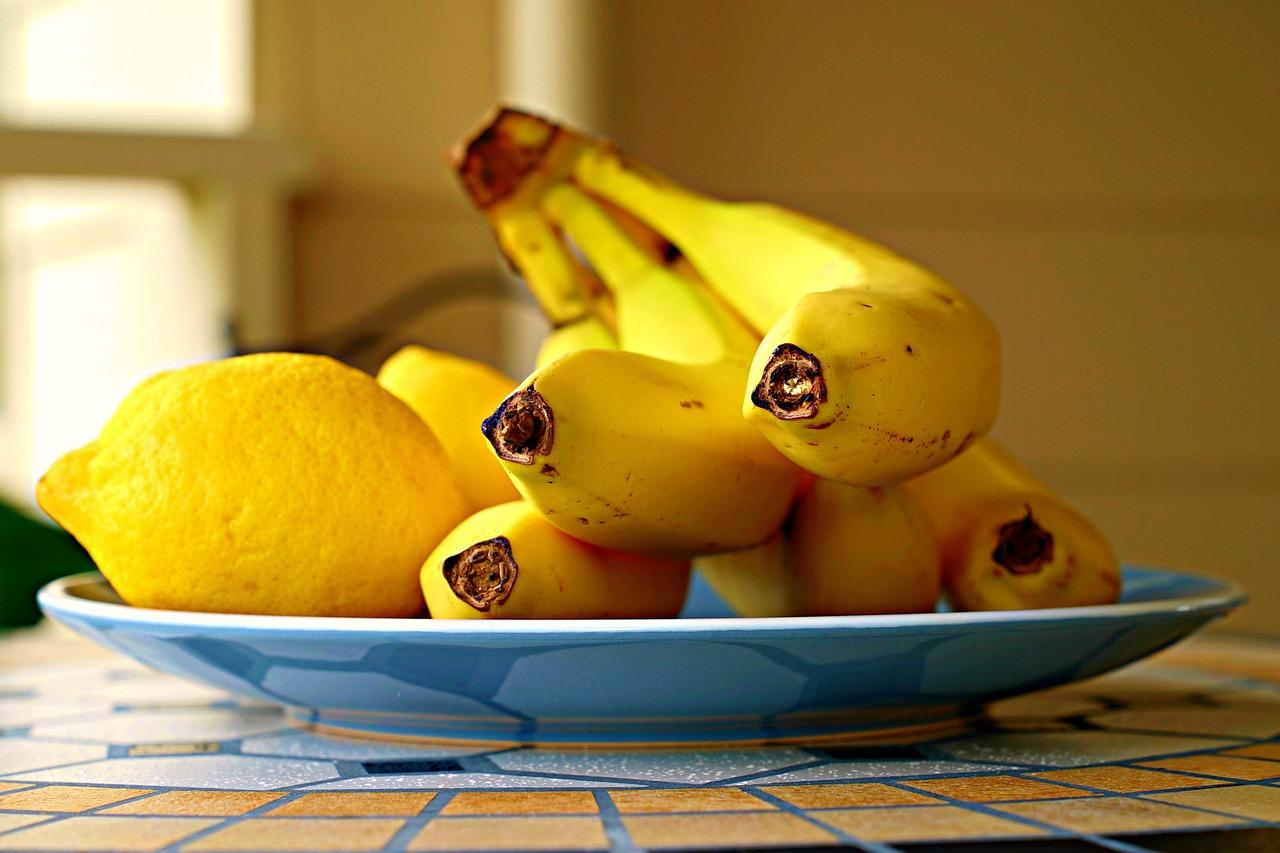banana: (413, 64, 1154, 627)
